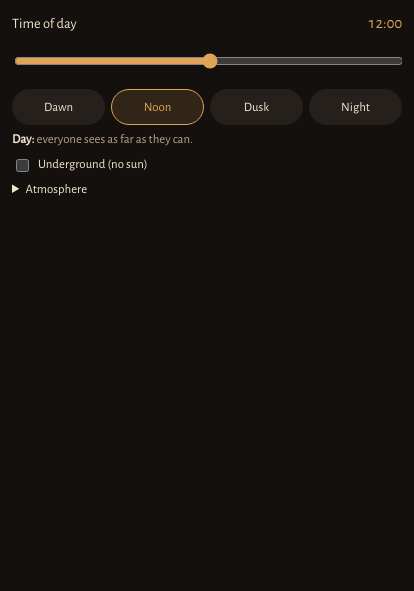
it: the atmosphere › keeps weather and grade disabled until they are drawn
Click the heading "Atmosphere" at (56, 189), box x1=26 y1=183 x2=87 y2=196
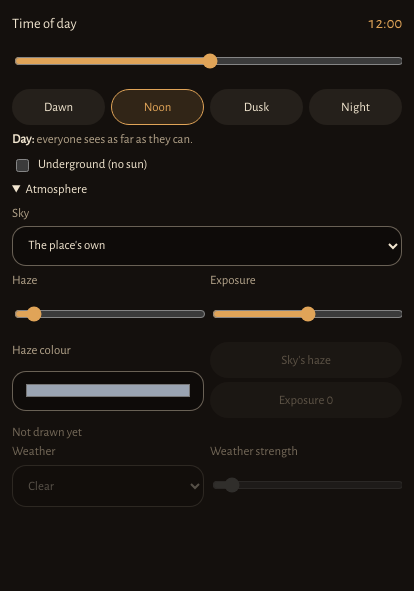
Expected: the dropdown labelled "Weather" is disabled, x1=12 y1=466 x2=204 y2=508
Expected: the dropdown labelled "Sky" is enabled, x1=12 y1=226 x2=402 y2=266
